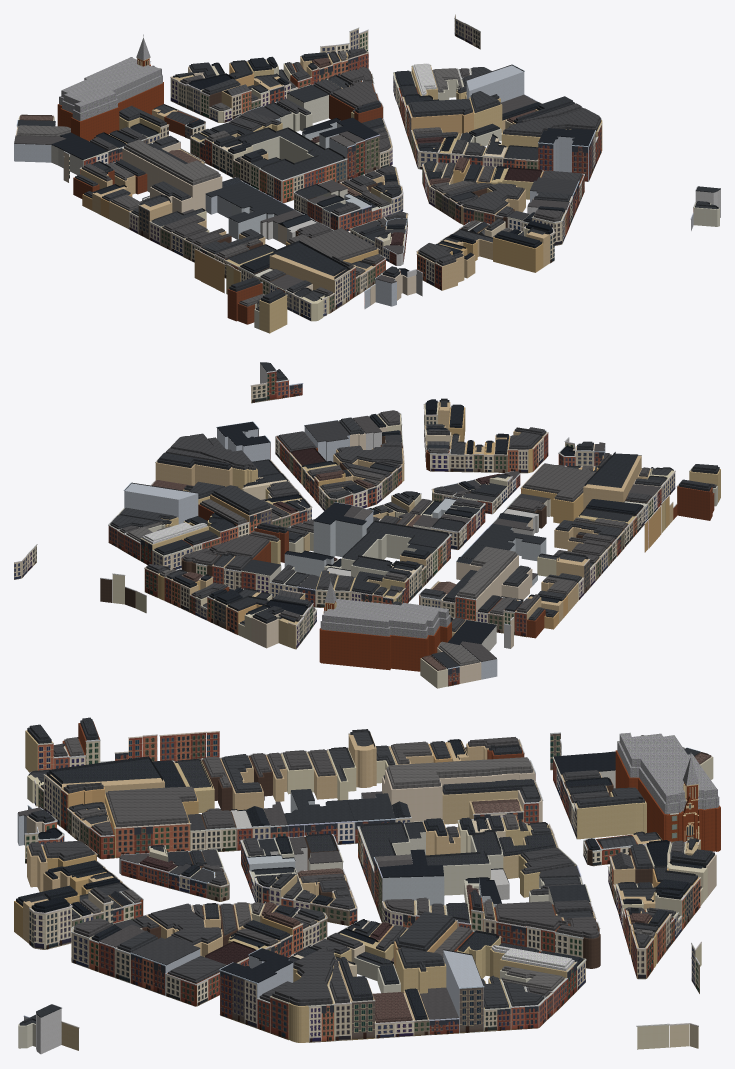
The picture shows the model from 3 angles, top to bottom: view 1: azimuth 30°, elevation 25°; view 2: azimuth 150°, elevation 25°; view 3: azimuth 270°, elevation 25°; orthographic projection. The views are drawn at different scales.
Visible parts, largest first — view 1: bldg_232926614_roof_b, bldg_232926614, bldg_498069159_roof_b, bldg_498078019, bldg_497841013, bldg_498075412_roof_b, bldg_497847381, bldg_498078019_roof_b, bldg_497841876_roof_b, bldg_498069159_facade1, bldg_498075413_roof_b, bldg_498075413 (+27 smaller); view 2: bldg_232926614, bldg_232926614_roof_b, bldg_497841013, bldg_498069159_roof_b, bldg_498069151, bldg_498075412_roof_b, bldg_497841017, bldg_498069159, bldg_498078019_roof_b, bldg_232926614_roof_a, bldg_497841876_roof_b, bldg_498075413_roof_b (+17 smaller); view 3: bldg_232926614_roof_b, bldg_498075412_roof_b, bldg_232926614, bldg_494692191, bldg_498078019, bldg_498078019_roof_b, bldg_498069159_roof_b, bldg_498075413_roof_b, bldg_498075412_facade0, bldg_497841876_roof_b, bldg_497841879_facade2, bldg_498069159 (+70 smaller).
Part boxes in pixels (box(x1,y1,x2,y2)): bldg_232926614_roof_b: box(61, 57, 161, 112); bldg_232926614: box(57, 82, 163, 141); bldg_498069159_roof_b: box(239, 127, 343, 177); bldg_498078019: box(122, 148, 222, 210); bldg_497841013: box(466, 65, 523, 102); bldg_498075412_roof_b: box(289, 228, 374, 258); bldg_497847381: box(493, 237, 543, 272); bldg_498078019_roof_b: box(126, 139, 218, 182); bldg_497841876_roof_b: box(504, 108, 599, 134); bldg_498069159_facade1: box(281, 158, 347, 203); bldg_498075413_roof_b: box(273, 240, 347, 276); bldg_498075413: box(269, 254, 349, 292); bldg_232926614: box(319, 622, 451, 671); bldg_232926614_roof_b: box(322, 599, 448, 630); bldg_497841013: box(124, 483, 198, 523); bldg_498069159_roof_b: box(344, 520, 447, 568); bldg_498069151: box(313, 520, 366, 557); bldg_498075412_roof_b: box(524, 463, 595, 499); bldg_497841017: box(156, 462, 232, 486); bldg_498069159: box(341, 534, 449, 577); bldg_498078019_roof_b: box(458, 546, 515, 595); bldg_232926614_roof_a: box(320, 615, 450, 638); bldg_497841876_roof_b: box(171, 433, 254, 467); bldg_498075413_roof_b: box(586, 452, 637, 487); bldg_232926614_roof_b: box(619, 732, 717, 804); bldg_498075412_roof_b: box(108, 786, 194, 823); bldg_232926614: box(615, 750, 720, 851); bldg_494692191: box(575, 792, 646, 839); bldg_498078019: box(385, 762, 534, 821); bldg_498078019_roof_b: box(388, 757, 530, 785); bldg_498069159_roof_b: box(362, 822, 499, 863); bldg_498075413_roof_b: box(49, 756, 160, 783); bldg_498075412_facade0: box(114, 823, 191, 858); bldg_497841876_roof_b: box(275, 946, 334, 1002); bldg_497841879_facade2: box(219, 969, 257, 1028); bldg_498069159: box(359, 825, 503, 895).
Bounding box in the file's own units: 268 × 41.67 × 270.
Materials: 130 (58 with a texture image).
